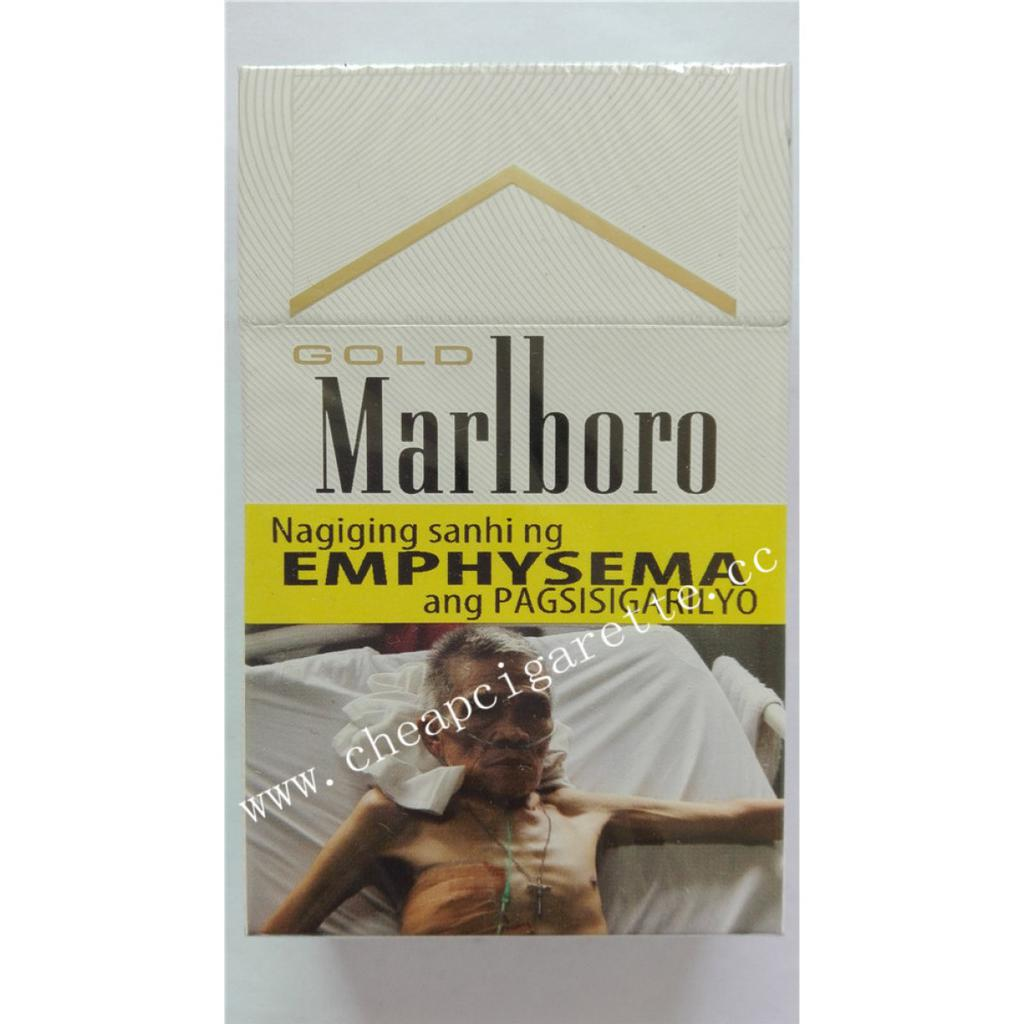marlboro_gold: (245, 70, 776, 936)
